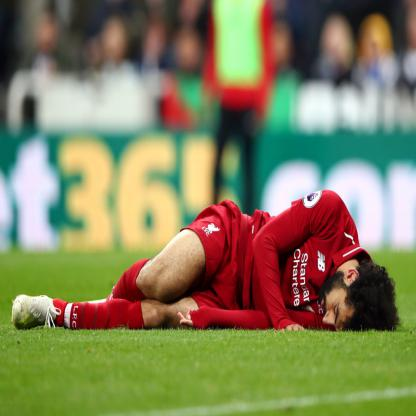football player lies: (17, 178, 397, 331)
